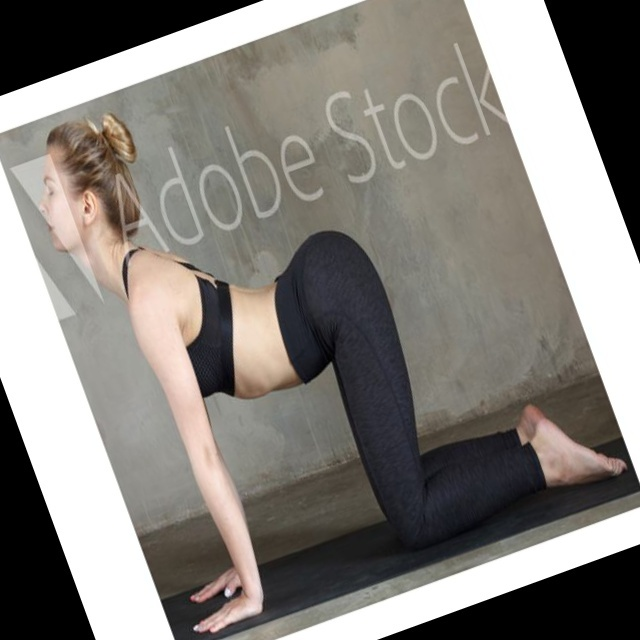Cow_Pose: (41, 116, 628, 636)
